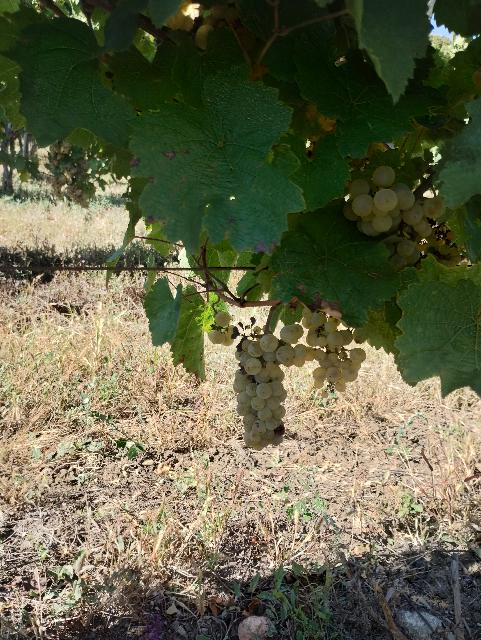grapes: (234, 319, 295, 450), (302, 308, 366, 398)
